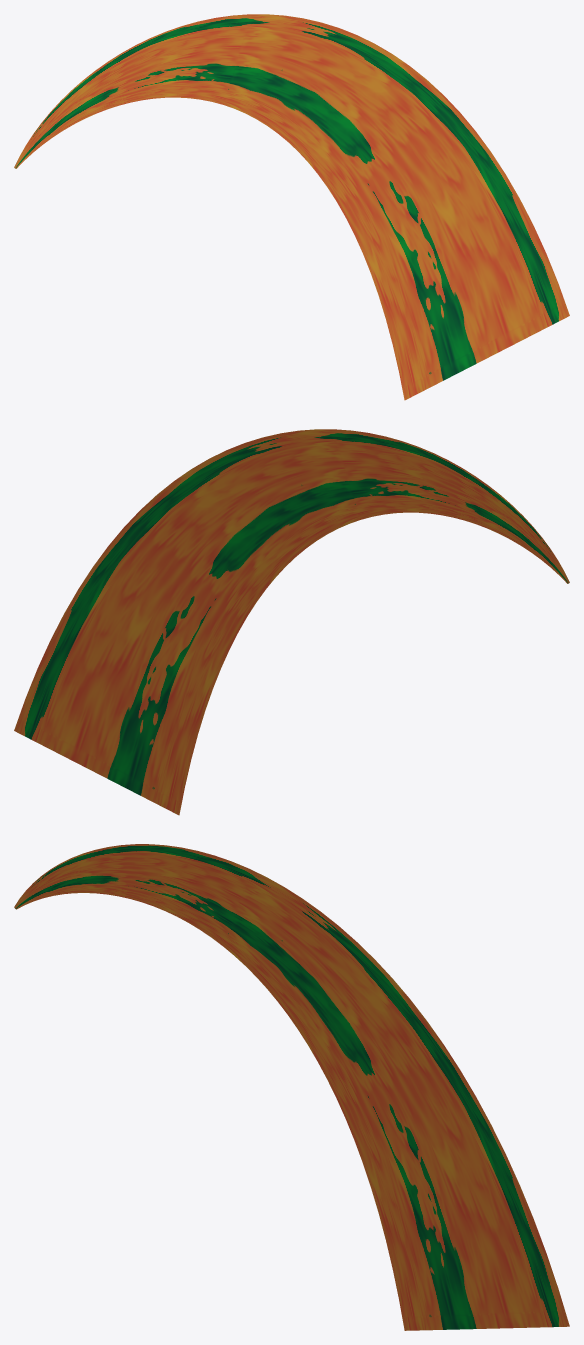
The model's file is p_trashbot_start_sprinkler02_pose0.fbx.
3 views of the same model, one above another, from view 1: azimuth 30°, elevation 25°; view 2: azimuth 150°, elevation 25°; view 3: azimuth 330°, elevation 25° (orthographic).
Parts seen in each view (by area): view 1: p_sprinkler_start_plane_02_pose1; view 2: p_sprinkler_start_plane_02_pose1; view 3: p_sprinkler_start_plane_02_pose1.
Boxes of the visible parts, bbox=[...] form: p_sprinkler_start_plane_02_pose1: bbox=[14, 14, 569, 400]; p_sprinkler_start_plane_02_pose1: bbox=[14, 429, 569, 815]; p_sprinkler_start_plane_02_pose1: bbox=[14, 844, 569, 1330].
Size of the model in its own units: 77.91 by 57.52 by 1.28e-06.
